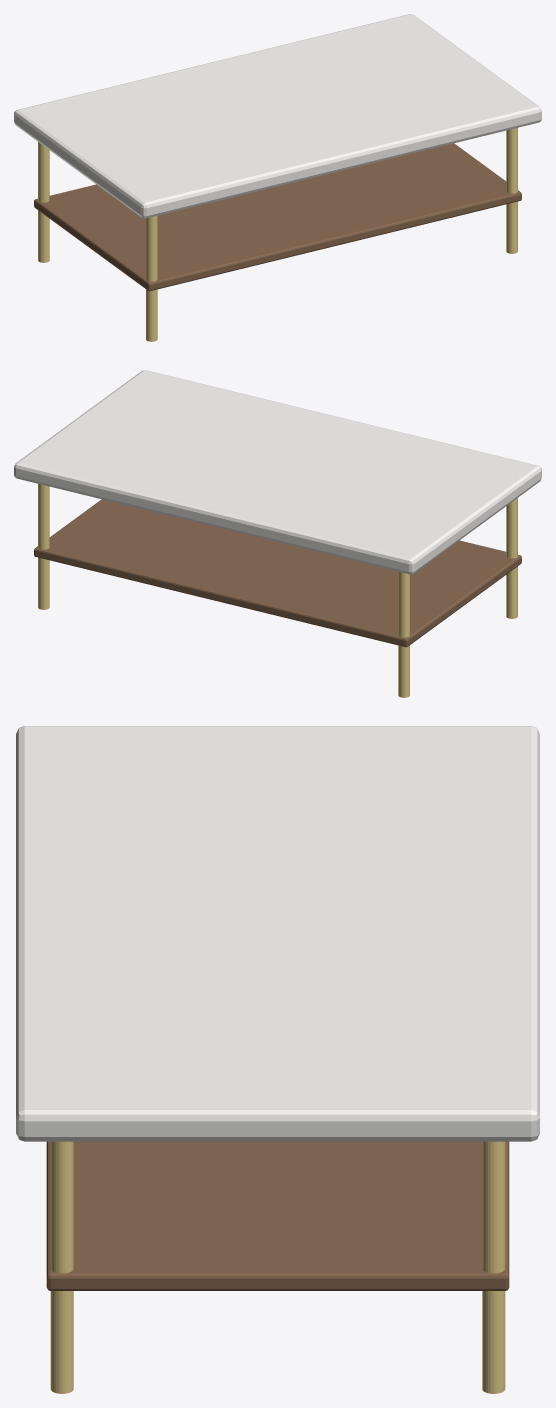
File: orta-sehpa.glb
The picture shows the model from 3 angles, top to bottom: view 1: azimuth 30°, elevation 25°; view 2: azimuth 150°, elevation 25°; view 3: azimuth 270°, elevation 25°; orthographic projection. The views are drawn at different scales.
Parts seen in each view (by area): view 1: CT_Top, CT_Shelf, CT_Leg, CT_Leg.002, CT_Leg.001; view 2: CT_Top, CT_Shelf, CT_Leg.001, CT_Leg.003, CT_Leg; view 3: CT_Top, CT_Shelf, CT_Leg.002, CT_Leg.003.
Boxes of the visible parts, x1,y1,x2,y2 form: CT_Top: (14, 14, 541, 218); CT_Shelf: (34, 143, 521, 291); CT_Leg: (146, 215, 157, 341); CT_Leg.002: (506, 128, 517, 253); CT_Leg.001: (38, 142, 49, 262); CT_Top: (14, 370, 541, 574); CT_Shelf: (34, 499, 521, 647); CT_Leg.001: (398, 571, 409, 697); CT_Leg.003: (38, 484, 49, 609); CT_Leg: (506, 498, 517, 618); CT_Top: (16, 726, 539, 1141); CT_Shelf: (46, 1141, 509, 1290); CT_Leg.002: (50, 1141, 73, 1393); CT_Leg.003: (482, 1141, 505, 1393).
Size of the model in its own units: 1.2 by 0.4225 by 0.68.
